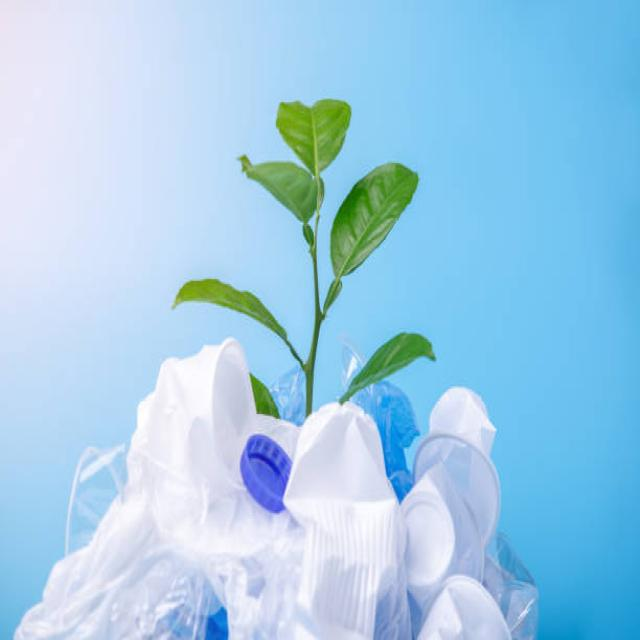plastic: (86, 377, 497, 632)
